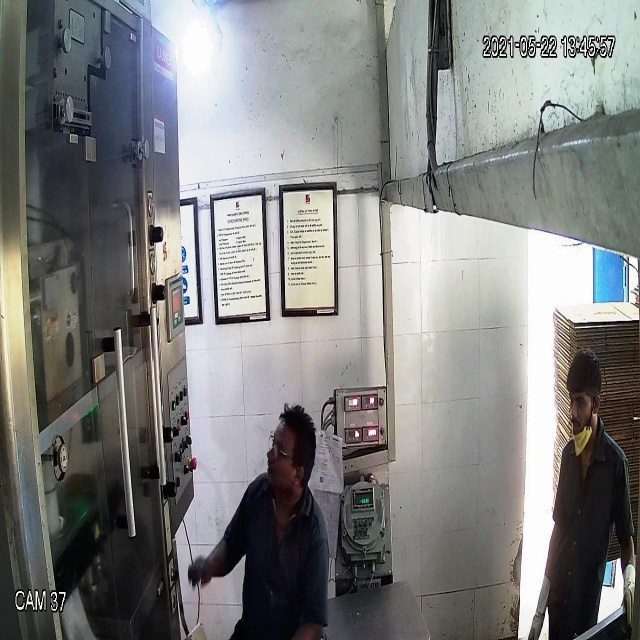Gafas: (263, 430, 306, 465)
Sin_gafas: (565, 388, 598, 417)
